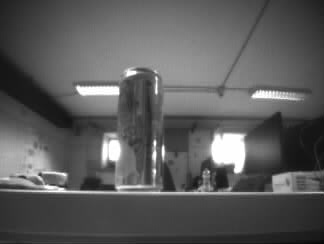Tin can: (115, 67, 163, 191)
